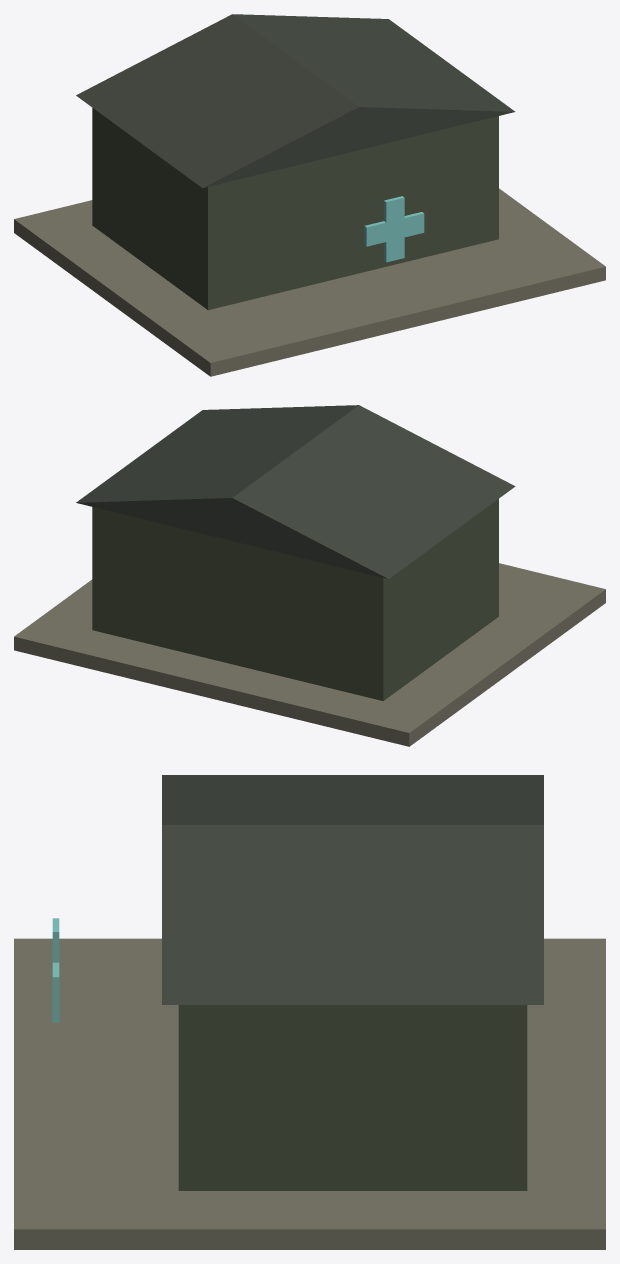
Rendered from Bastion_MASH_LOD1.obj.
3 views of the same model, one above another, from view 1: azimuth 30°, elevation 25°; view 2: azimuth 150°, elevation 25°; view 3: azimuth 270°, elevation 25° (orthographic). The views are drawn at different scales.
Visible parts, largest first — view 1: Bastion_MASH_LOD1; view 2: Bastion_MASH_LOD1; view 3: Bastion_MASH_LOD1.
Boxes of the visible parts, box(x1,y1,x2,y2) form: Bastion_MASH_LOD1: box(14, 14, 605, 376); Bastion_MASH_LOD1: box(14, 405, 605, 746); Bastion_MASH_LOD1: box(14, 775, 605, 1249).
Bounding box in the file's own units: 7.2 × 3.23 × 6.2.
1 material, 1 textured.
